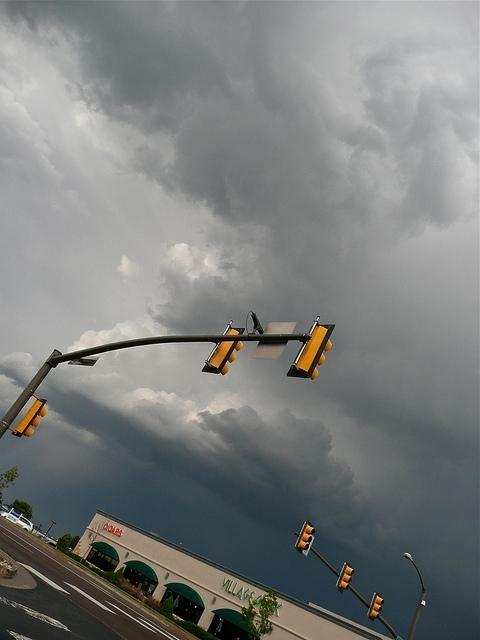car: (0, 510, 34, 534)
